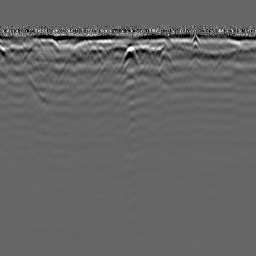cavity: (119, 44, 140, 69)
